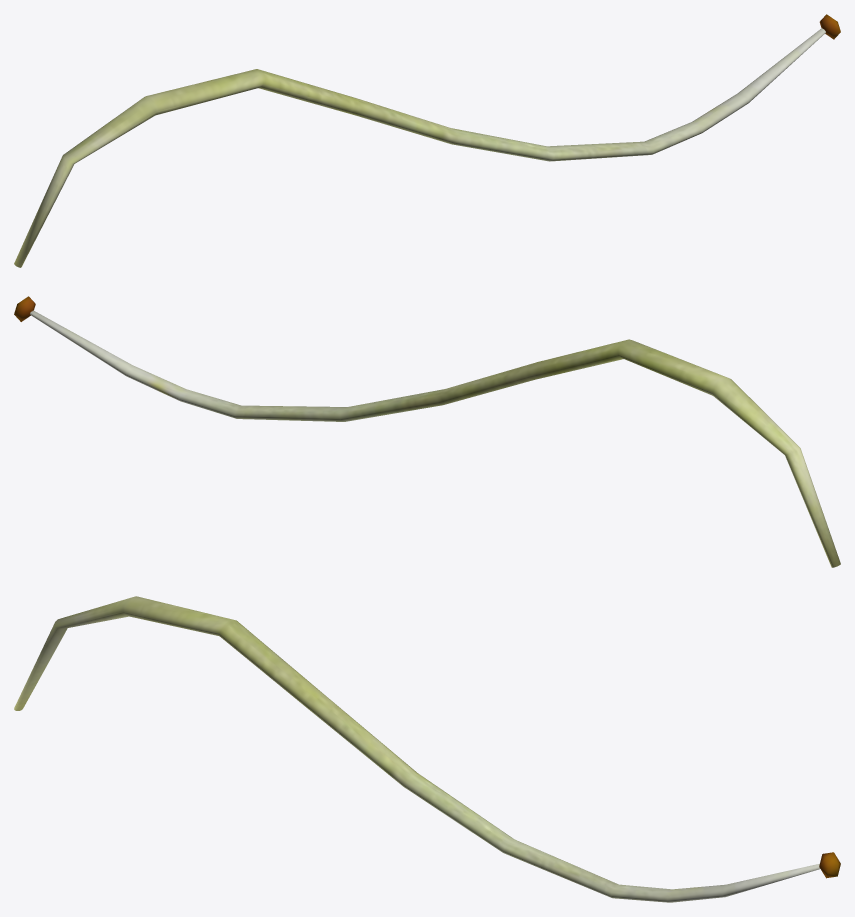
The model's file is Dayflower_Base_Pistil.glb.
3 views of the same model, one above another, from view 1: azimuth 30°, elevation 25°; view 2: azimuth 150°, elevation 25°; view 3: azimuth 330°, elevation 25° (orthographic). The views are drawn at different scales.
Visible parts, largest first — view 1: DayflowerPistil1; view 2: DayflowerPistil1; view 3: DayflowerPistil1.
Boxes of the visible parts, x1,y1,x2,y2 form: DayflowerPistil1: (14, 28, 825, 267); DayflowerPistil1: (30, 310, 840, 567); DayflowerPistil1: (14, 596, 820, 902).
Size of the model in its own units: 1.42 by 0.2875 by 0.1018.
2 materials, 2 textured.
